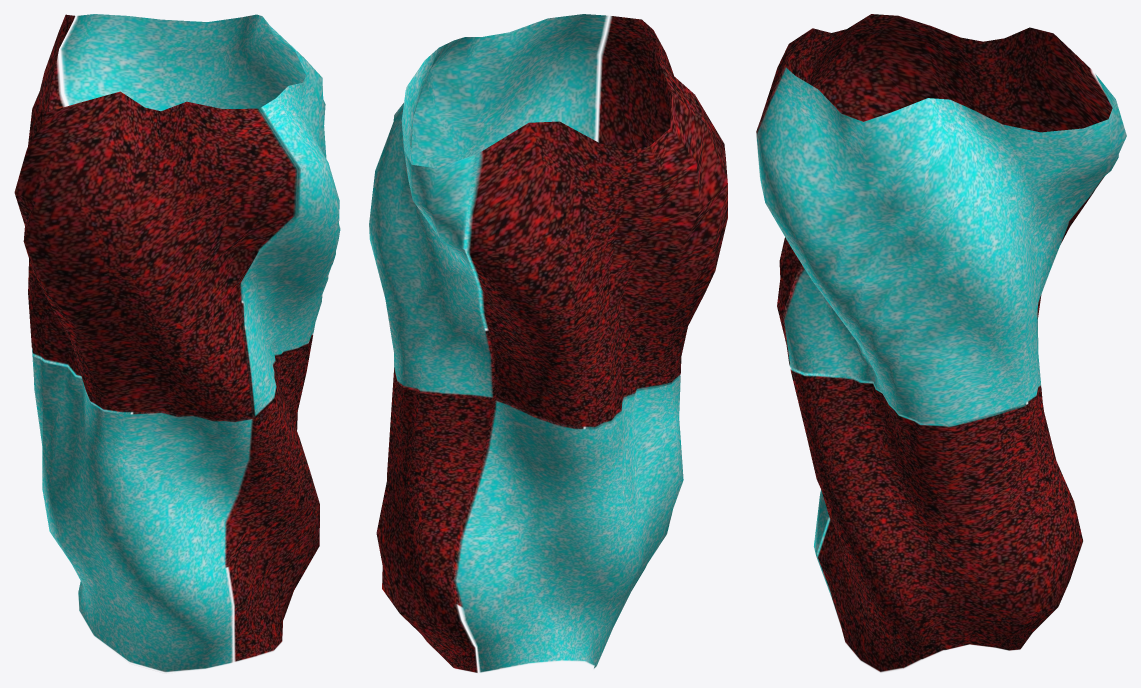
The picture shows the model from 3 angles, left to right: view 1: azimuth 30°, elevation 25°; view 2: azimuth 150°, elevation 25°; view 3: azimuth 270°, elevation 25°; orthographic projection. The views are drawn at different scales.
Parts seen in each view (by area): view 1: SM_VFX_WaterCascade_Combo_LOD0; view 2: SM_VFX_WaterCascade_Combo_LOD0; view 3: SM_VFX_WaterCascade_Combo_LOD0.
Boxes of the visible parts, bbox=[...] form: SM_VFX_WaterCascade_Combo_LOD0: bbox=[14, 14, 340, 672]; SM_VFX_WaterCascade_Combo_LOD0: bbox=[369, 14, 727, 672]; SM_VFX_WaterCascade_Combo_LOD0: bbox=[756, 14, 1126, 672].
Bounding box in the file's own units: 0.5401 × 0.9996 × 0.5688.
1 material, 1 textured.
